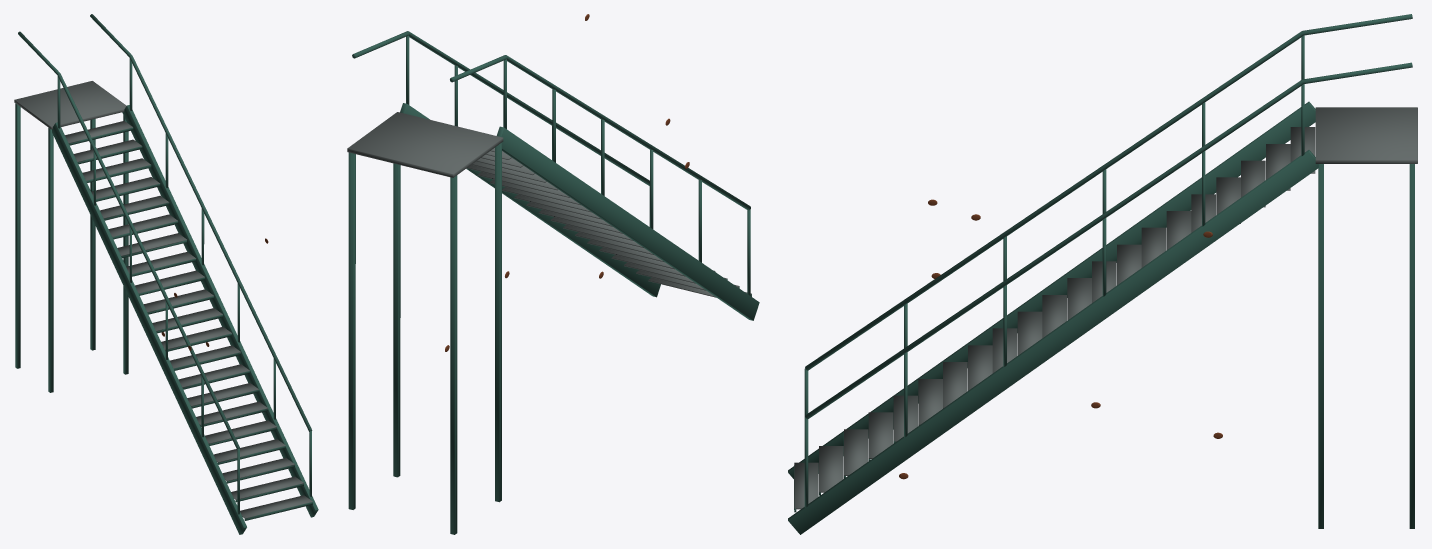
File: cau_thang_358_458_95.glb
The picture shows the model from 3 angles, left to right: view 1: azimuth 30°, elevation 25°; view 2: azimuth 150°, elevation 25°; view 3: azimuth 270°, elevation 25°; orthographic projection. The views are drawn at different scales.
Parts seen in each view (by area): view 1: cau_thang_358_458_95; view 2: cau_thang_358_458_95; view 3: cau_thang_358_458_95.
Part boxes in pixels (x1=…): cau_thang_358_458_95: x1=14, y1=14, x2=318, y2=534; cau_thang_358_458_95: x1=347, y1=14, x2=759, y2=534; cau_thang_358_458_95: x1=788, y1=14, x2=1417, y2=534.
Size of the model in its own units: 1.1 by 4.56 by 5.53.
